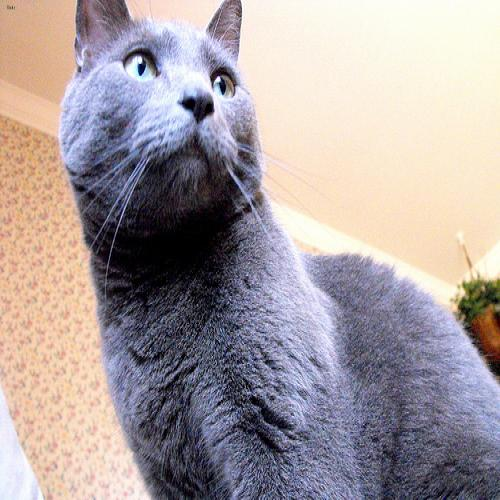rblue: (38, 1, 272, 247)
